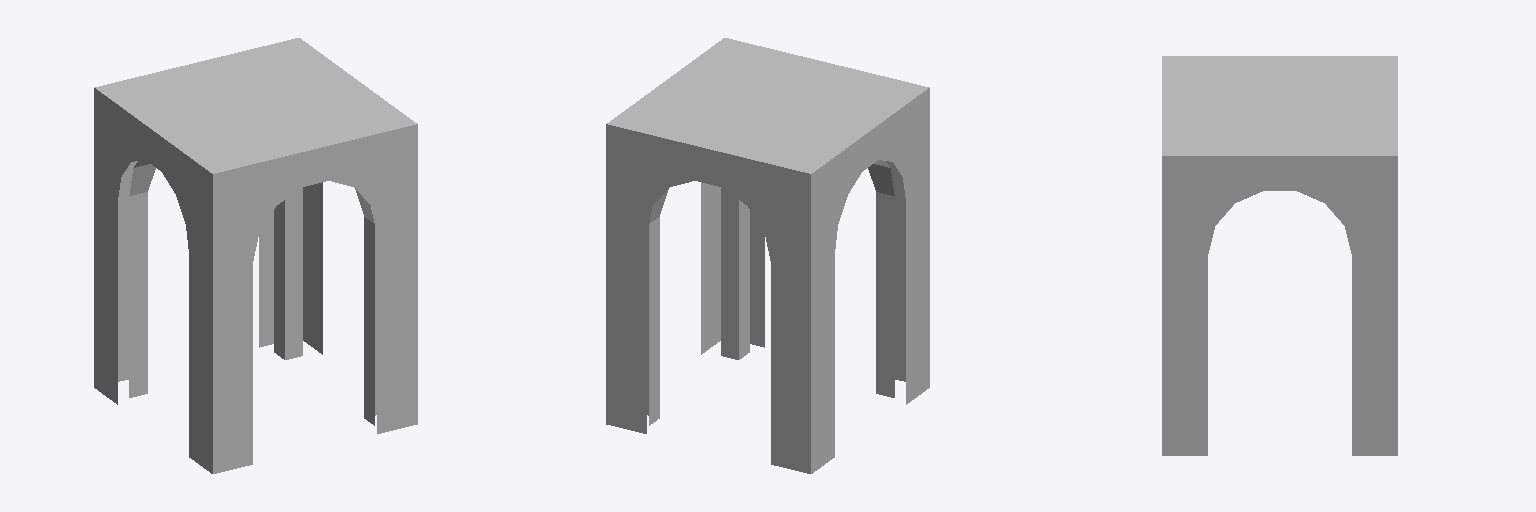
The model's file is sm_hallway_01.obj.
3 renders of one model, left to right at view 1: azimuth 30°, elevation 25°; view 2: azimuth 150°, elevation 25°; view 3: azimuth 270°, elevation 25°, orthographic.
Parts seen in each view (by area): view 1: sm_hallway_01; view 2: sm_hallway_01; view 3: sm_hallway_01.
Part boxes in pixels (left/top/right/bottom): sm_hallway_01: left=94, top=38, right=417, bottom=473; sm_hallway_01: left=606, top=38, right=929, bottom=473; sm_hallway_01: left=1162, top=56, right=1397, bottom=455.
Size of the model in its own units: 5 by 7 by 5.